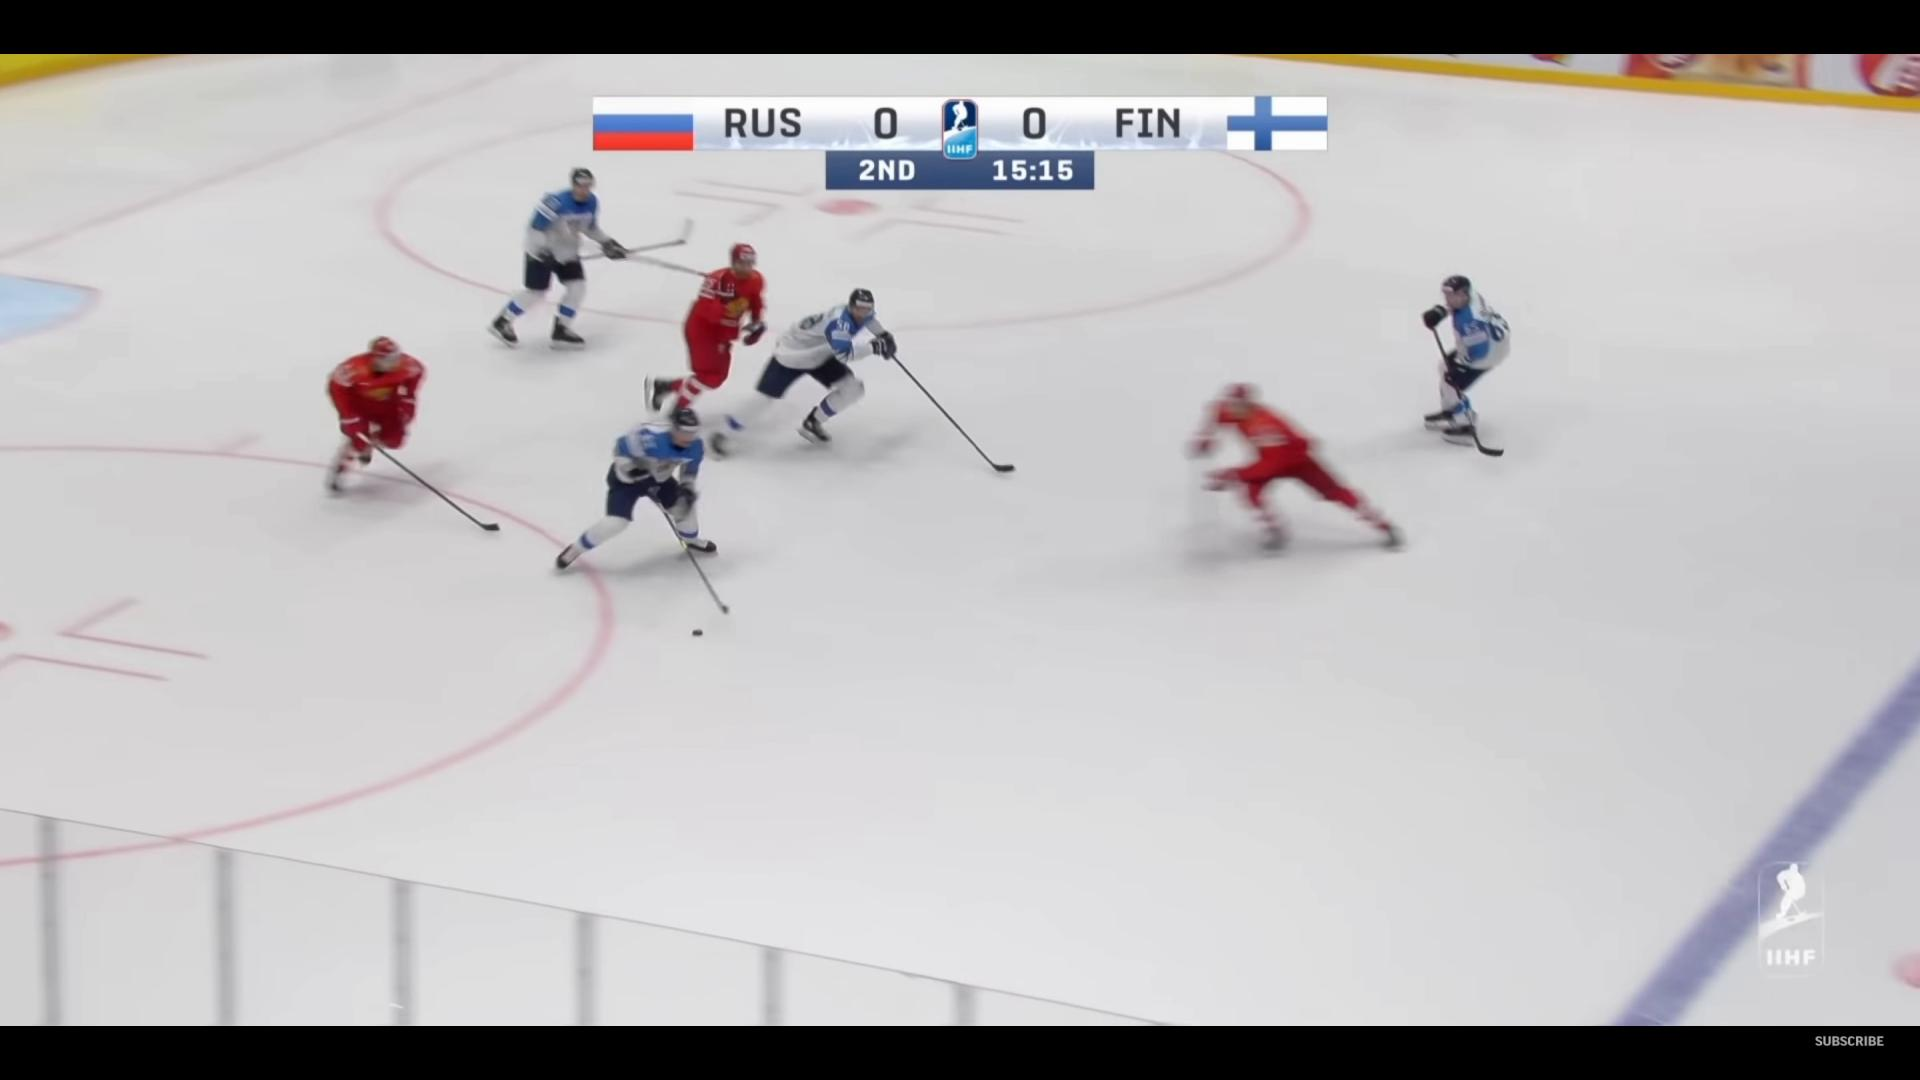puck: (691, 629, 702, 636)
